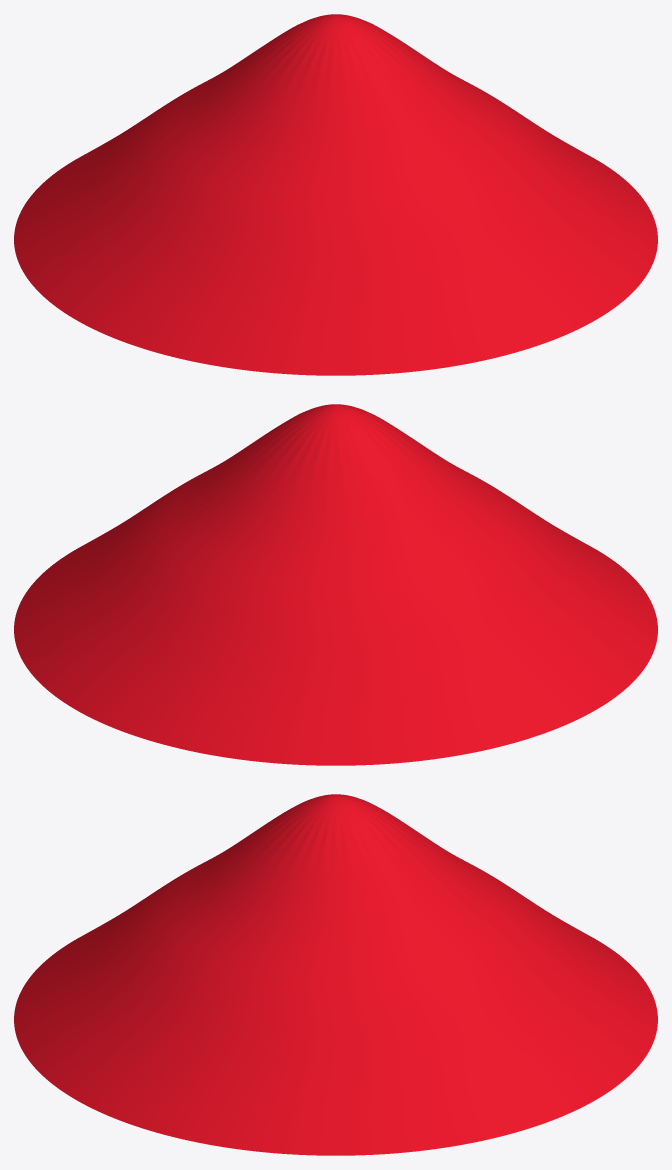
The model's file is luz.fbx.
3 renders of one model, top to bottom at view 1: azimuth 30°, elevation 25°; view 2: azimuth 150°, elevation 25°; view 3: azimuth 270°, elevation 25°, orthographic.
Parts seen in each view (by area): view 1: Cilindro.001; view 2: Cilindro.001; view 3: Cilindro.001.
Boxes of the visible parts, x1,y1,x2,y2 form: Cilindro.001: [14, 14, 657, 375]; Cilindro.001: [14, 404, 657, 765]; Cilindro.001: [14, 794, 657, 1155].
Bounding box in the file's own units: 332 × 127 × 332.
